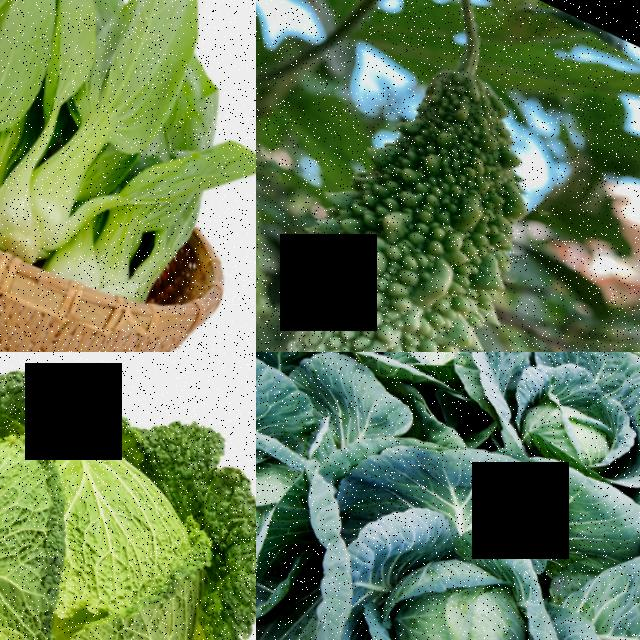bitter gourd: (256, 17, 573, 352)
bok choy: (0, 0, 218, 287), (103, 84, 256, 323), (0, 0, 81, 244)
cabbage: (0, 352, 256, 640), (312, 456, 635, 640), (256, 369, 352, 640), (490, 352, 640, 498), (334, 352, 522, 426)
